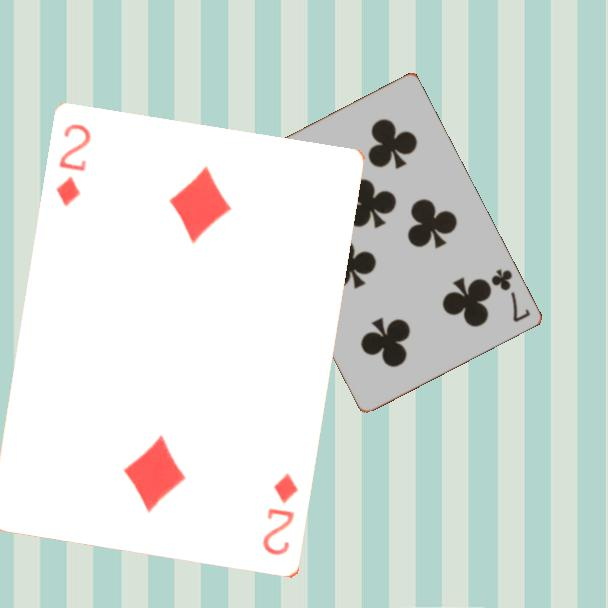c07: (487, 265, 533, 325)
d02: (259, 470, 302, 559), (53, 121, 94, 210)
